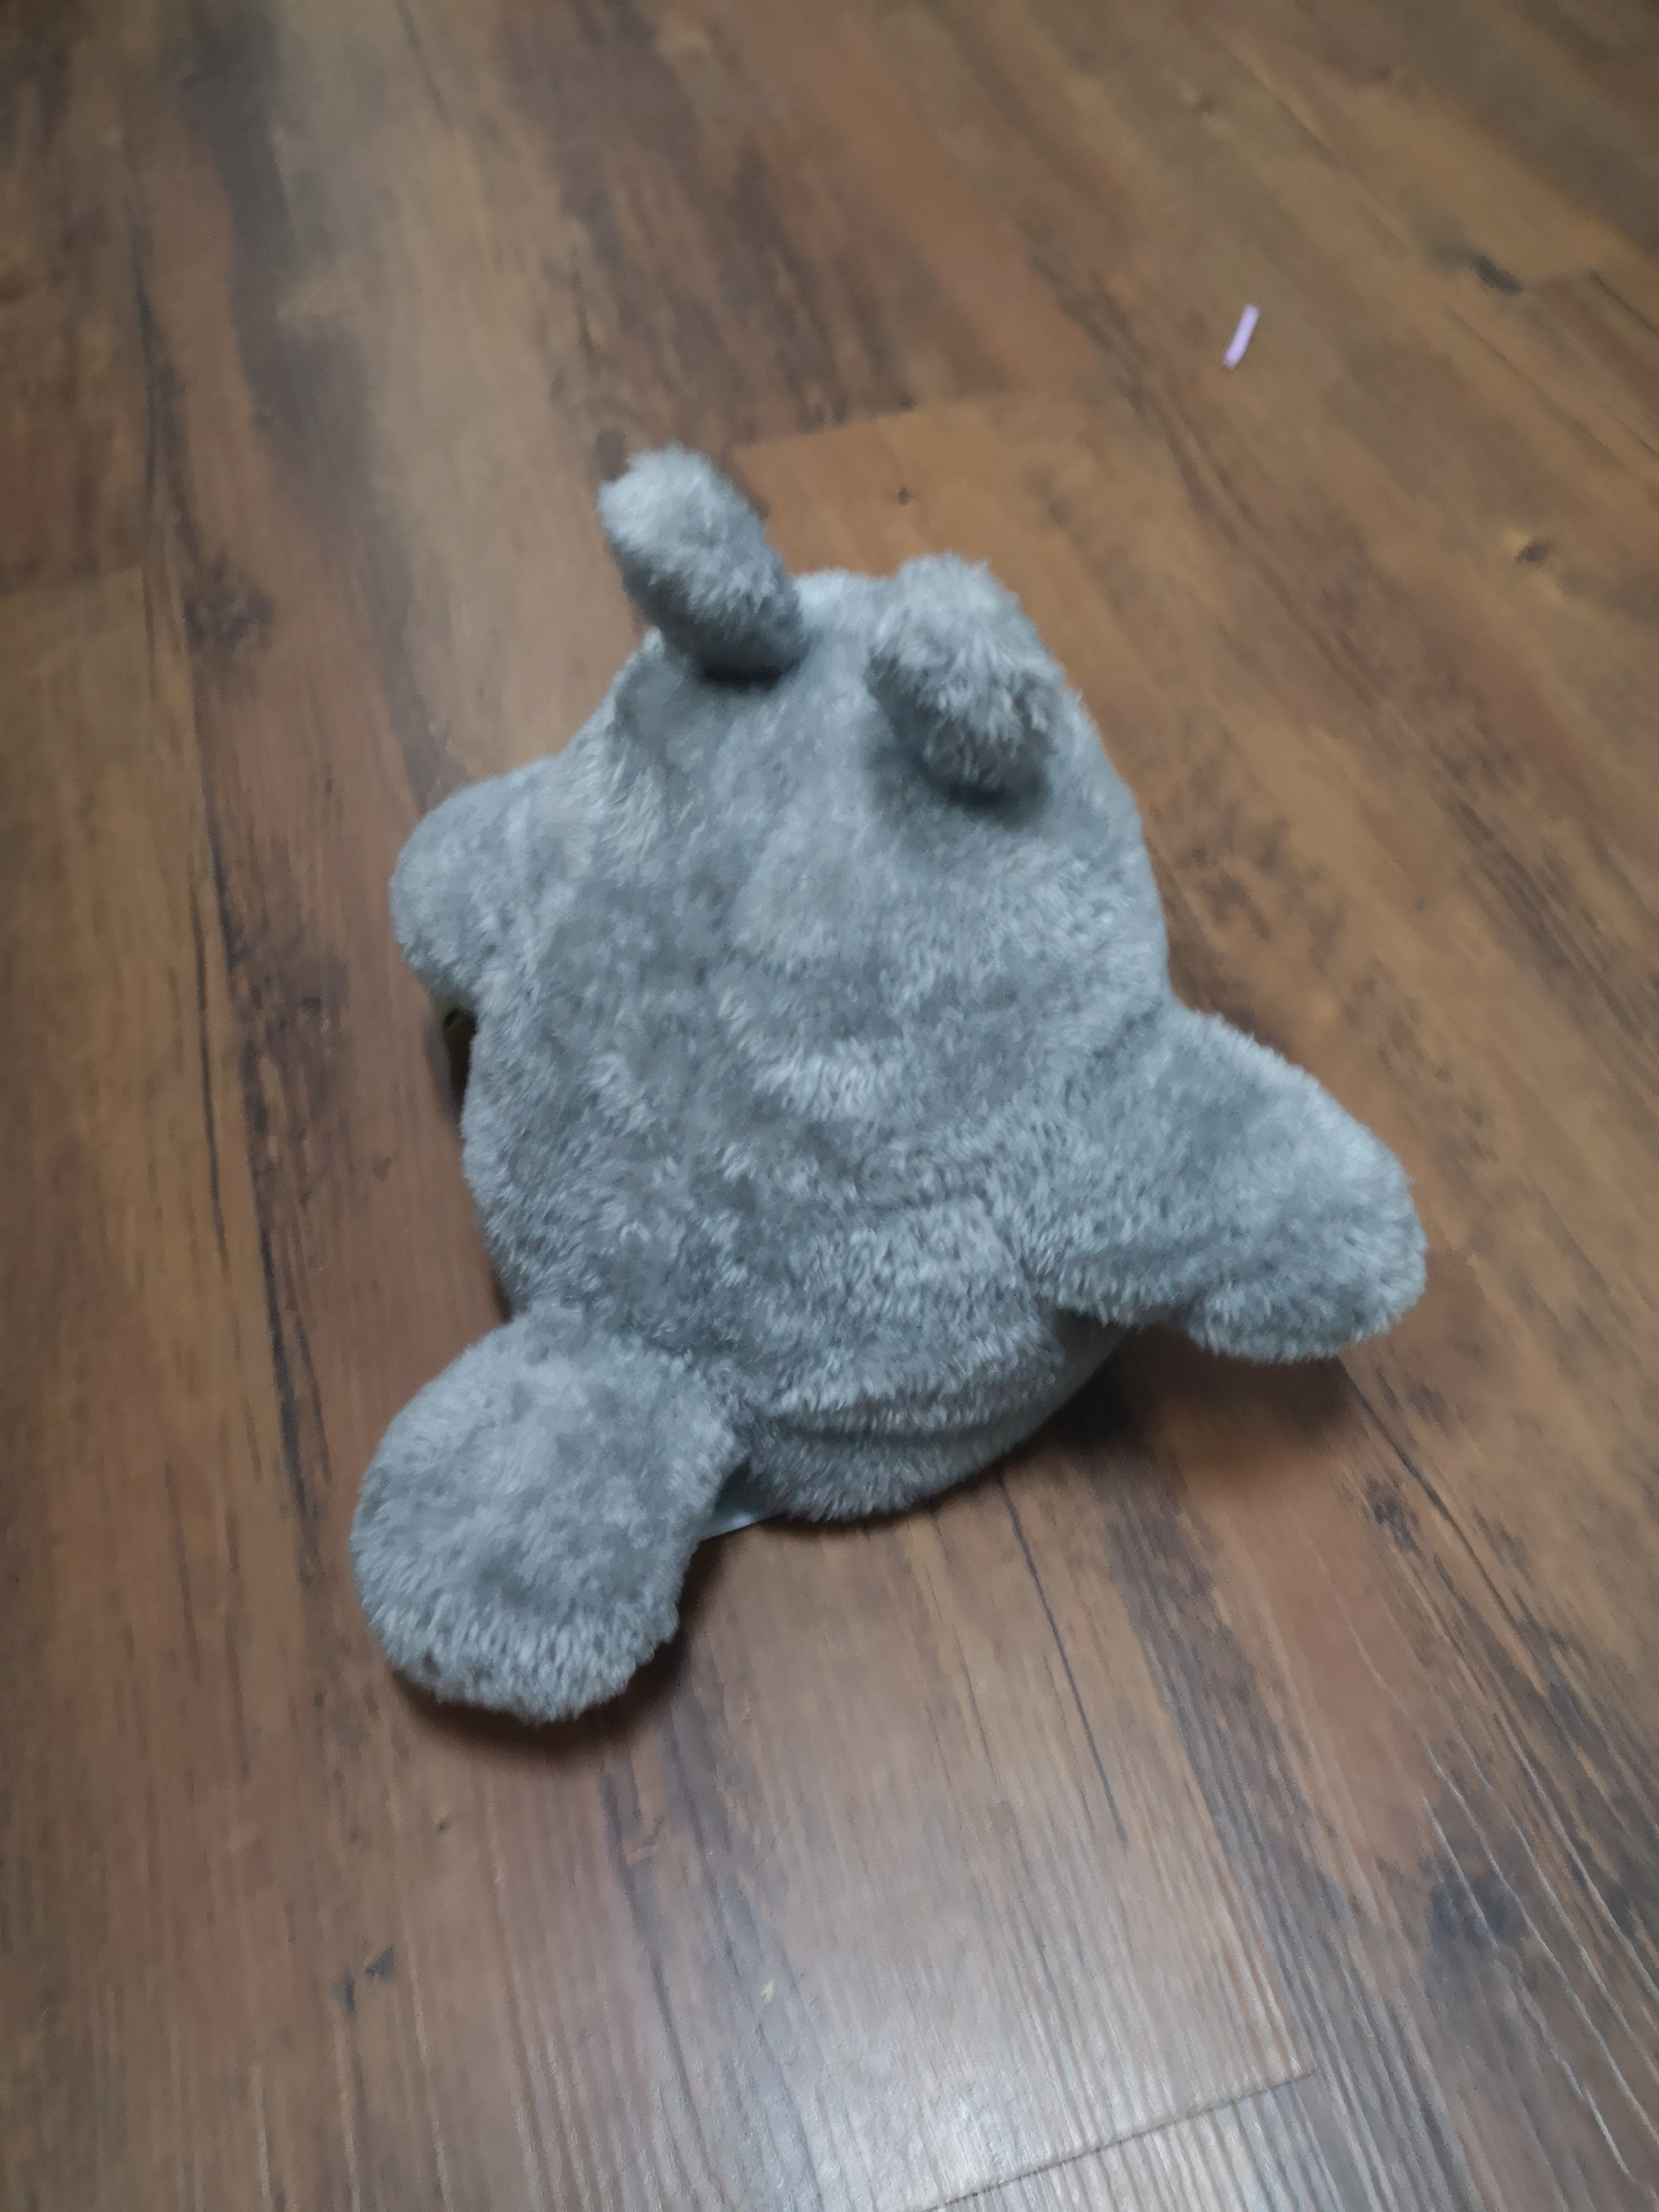totoro: (324, 432, 1453, 1763)
